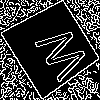W: (26, 23, 92, 88)
